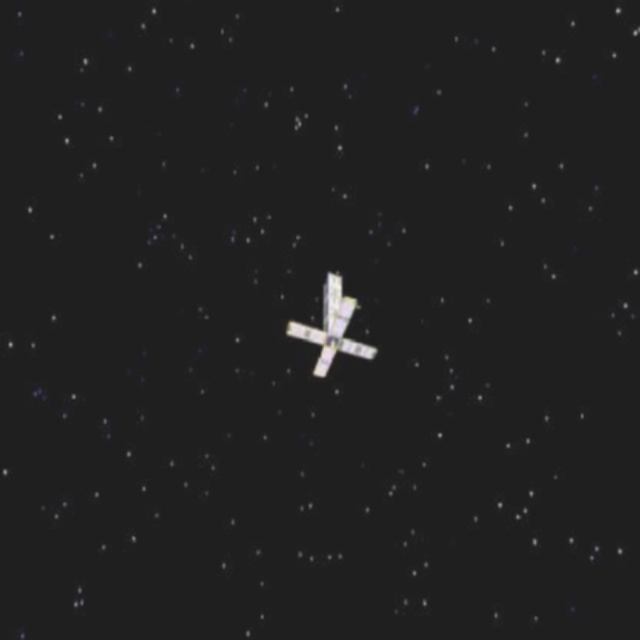medium_debris: (285, 265, 396, 389)
